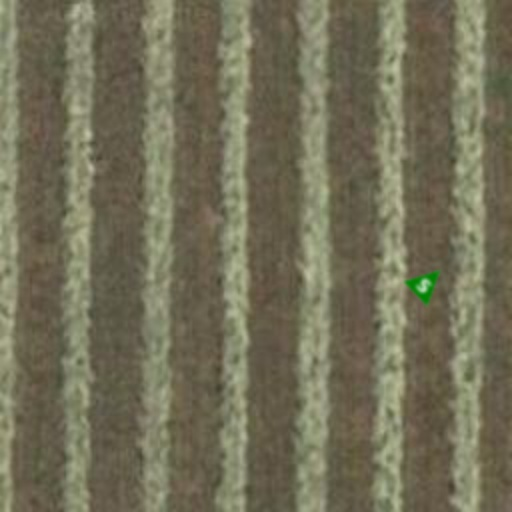triangle: (402, 256, 454, 308)
